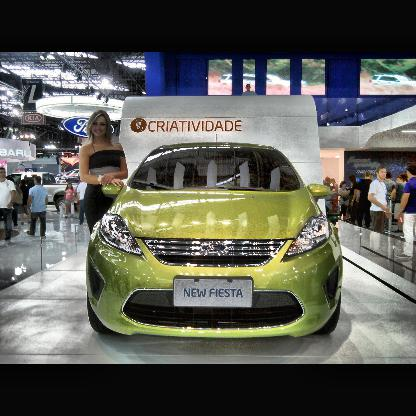Ford Fiesta Sedan 2012: (87, 145, 345, 340)
